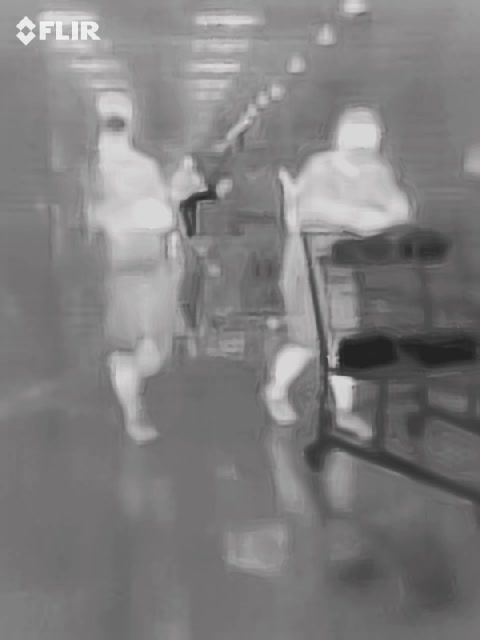head: (94, 91, 136, 158), (337, 109, 379, 162)
